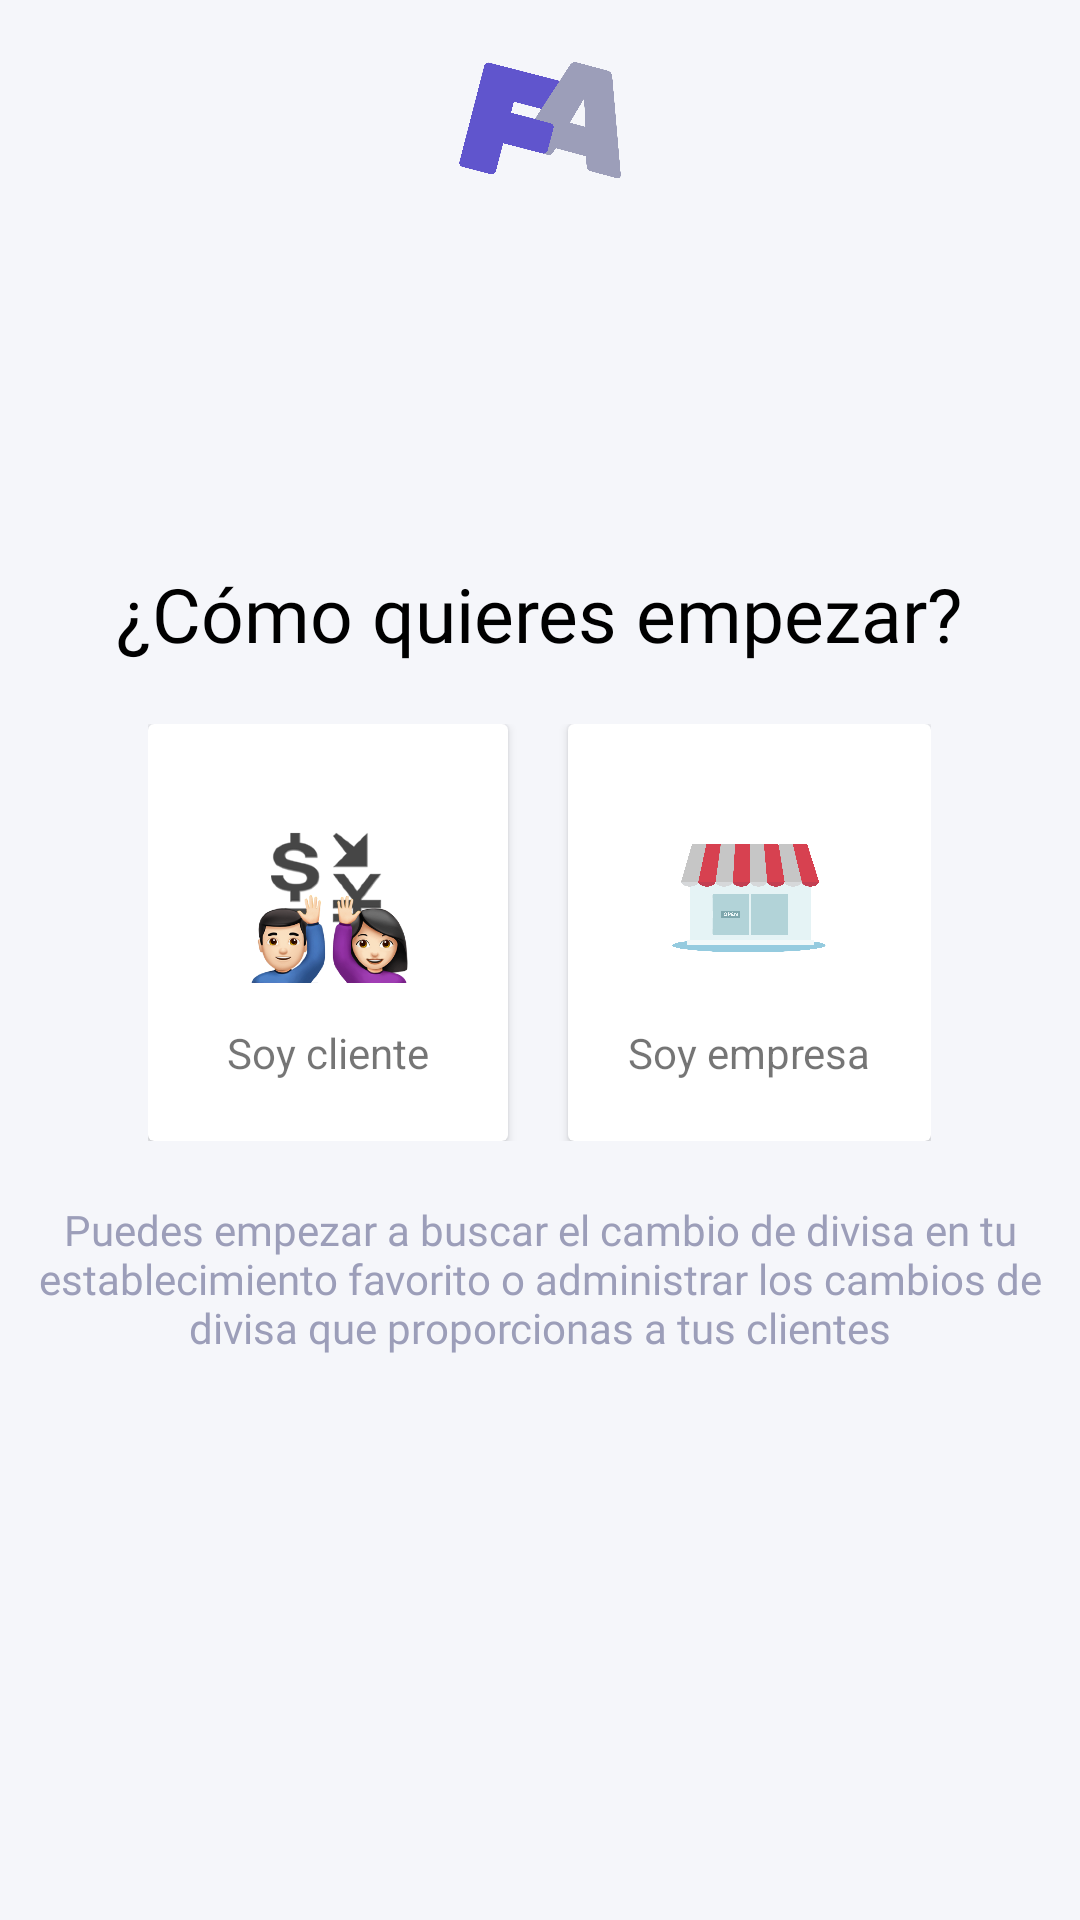

Locate icon controls on the screen. Image size 1080 × 1920, boxes as [x1, y1, x2, y2].
customer: [251, 833, 408, 983]
store: [672, 844, 826, 952]
